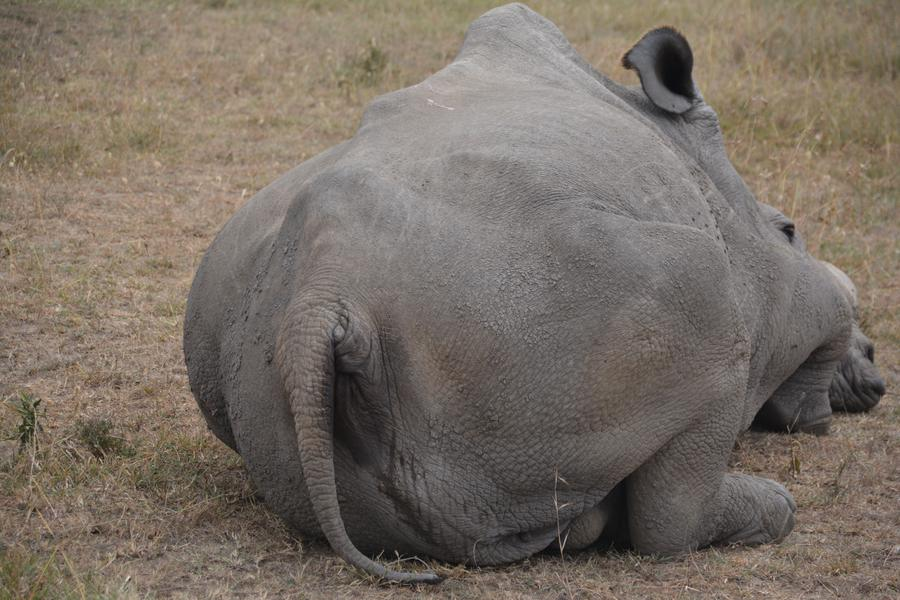rhino: (176, 22, 846, 547)
